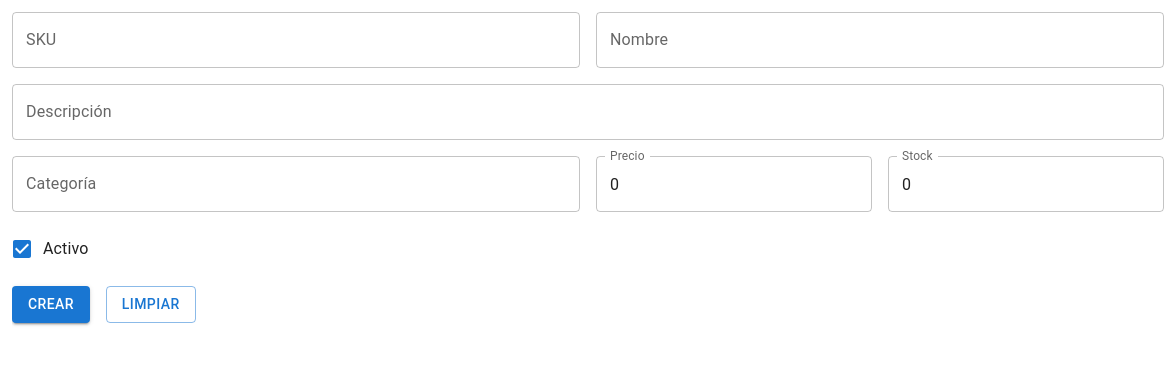
Test case: ProductForm — validación de formato › muestra error de formato para categoría con caracteres inválidos
Type "SKU-001" into the field labelled "SKU" at point(296, 40), box 12,12 -> 580,68
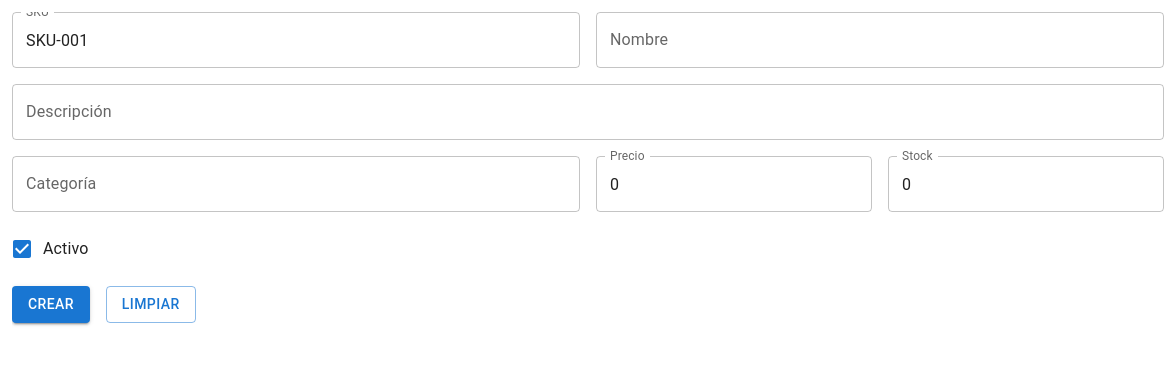
Type "Laptop Pro" into the field labelled "Nombre" at point(880, 40), box 596,12 -> 1164,68
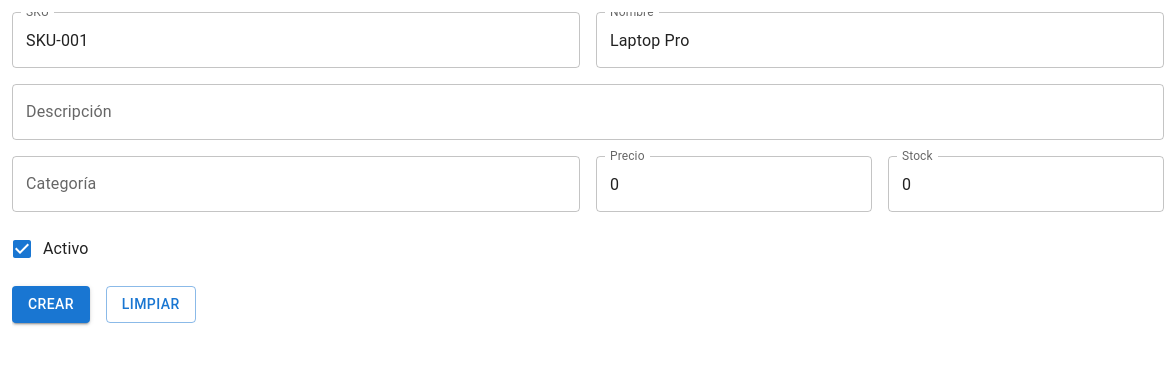
Type "Technology" into the field labelled "Categoría" at point(296, 184), box 12,156 -> 580,212
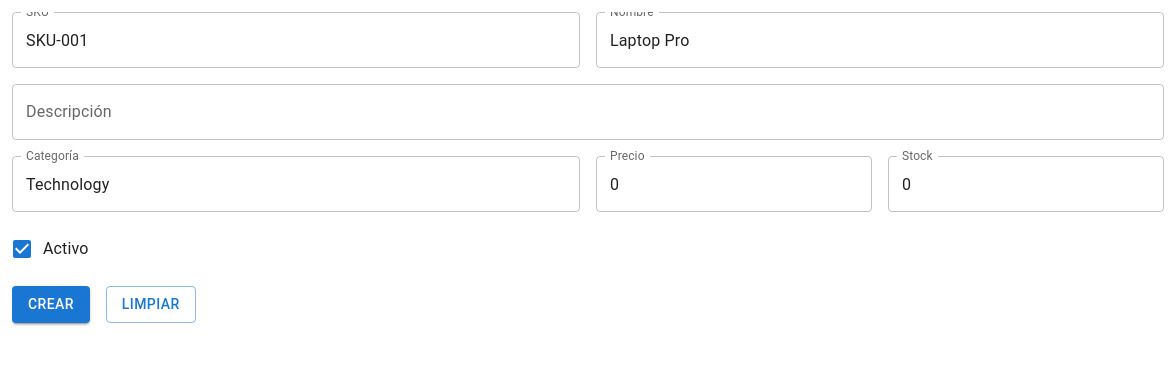
Replace the text in the field labelled "Categoría" with "Invalid@Category#2024" at point(296, 184), box 12,156 -> 580,212
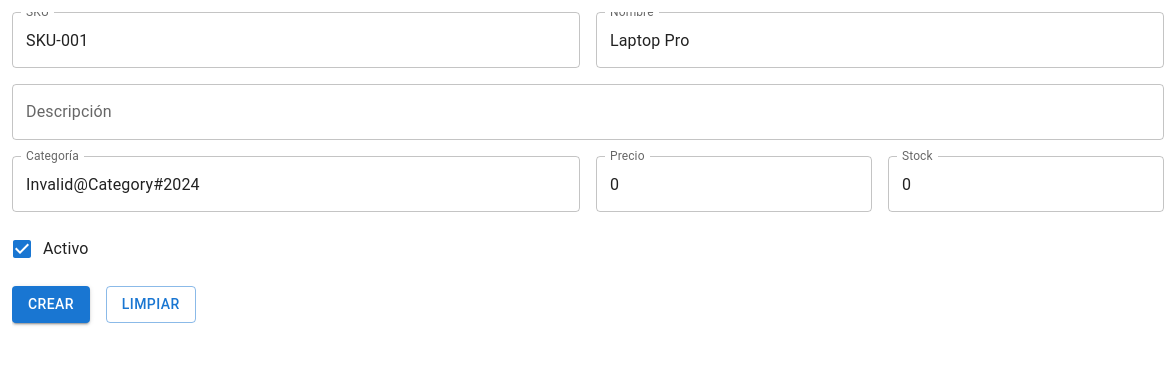
Click the button "Crear" at point(51, 304), box 12,286 -> 90,322
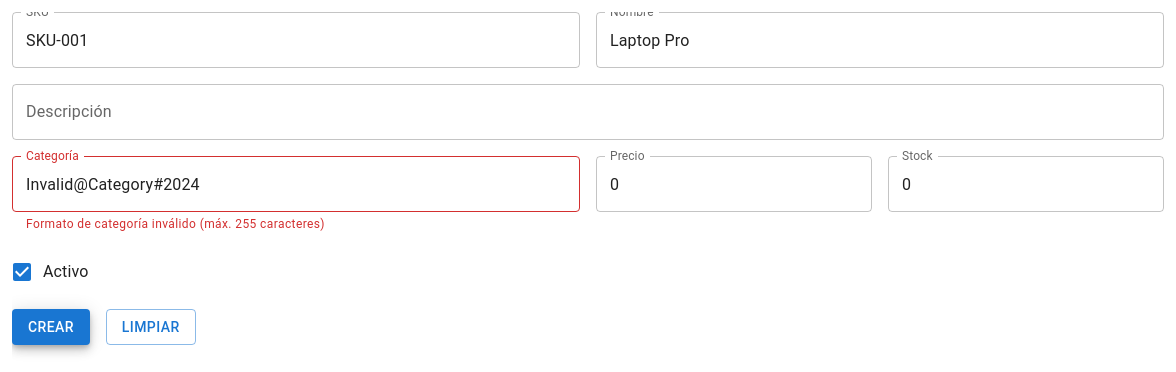
Now the text "Formato de categoría inválido (máx. 255 caracteres)" is shown, box 26,217 -> 325,231
